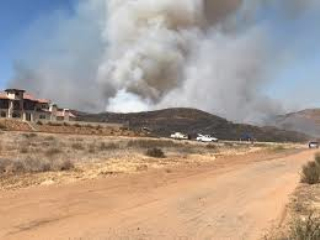smoke: (97, 1, 256, 124)
